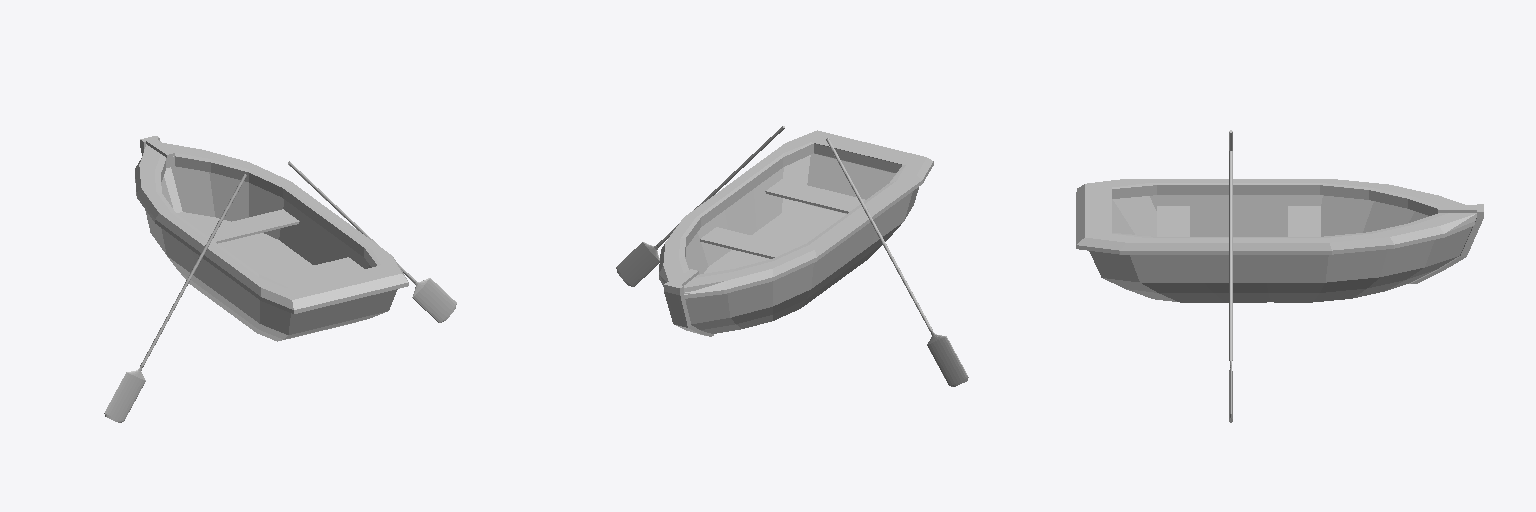
Rendered from Boat and rafter.obj.
3 views of the same model, side by side, from view 1: azimuth 30°, elevation 25°; view 2: azimuth 150°, elevation 25°; view 3: azimuth 270°, elevation 25° (orthographic).
Visible parts, largest first — view 1: pCube6, pCylinder1, pCylinder9; view 2: pCube6, pCylinder1, pCylinder9; view 3: pCube6, pCylinder9.
Boxes of the visible parts, x1,y1,x2,y2 form: pCube6: [135, 136, 408, 341]; pCylinder1: [104, 174, 246, 422]; pCylinder9: [288, 161, 456, 322]; pCube6: [659, 130, 933, 336]; pCylinder1: [826, 138, 968, 386]; pCylinder9: [616, 126, 784, 286]; pCube6: [1076, 179, 1483, 302]; pCylinder9: [1229, 151, 1232, 422].
Size of the model in its own units: 9.53 by 5.68 by 9.53.